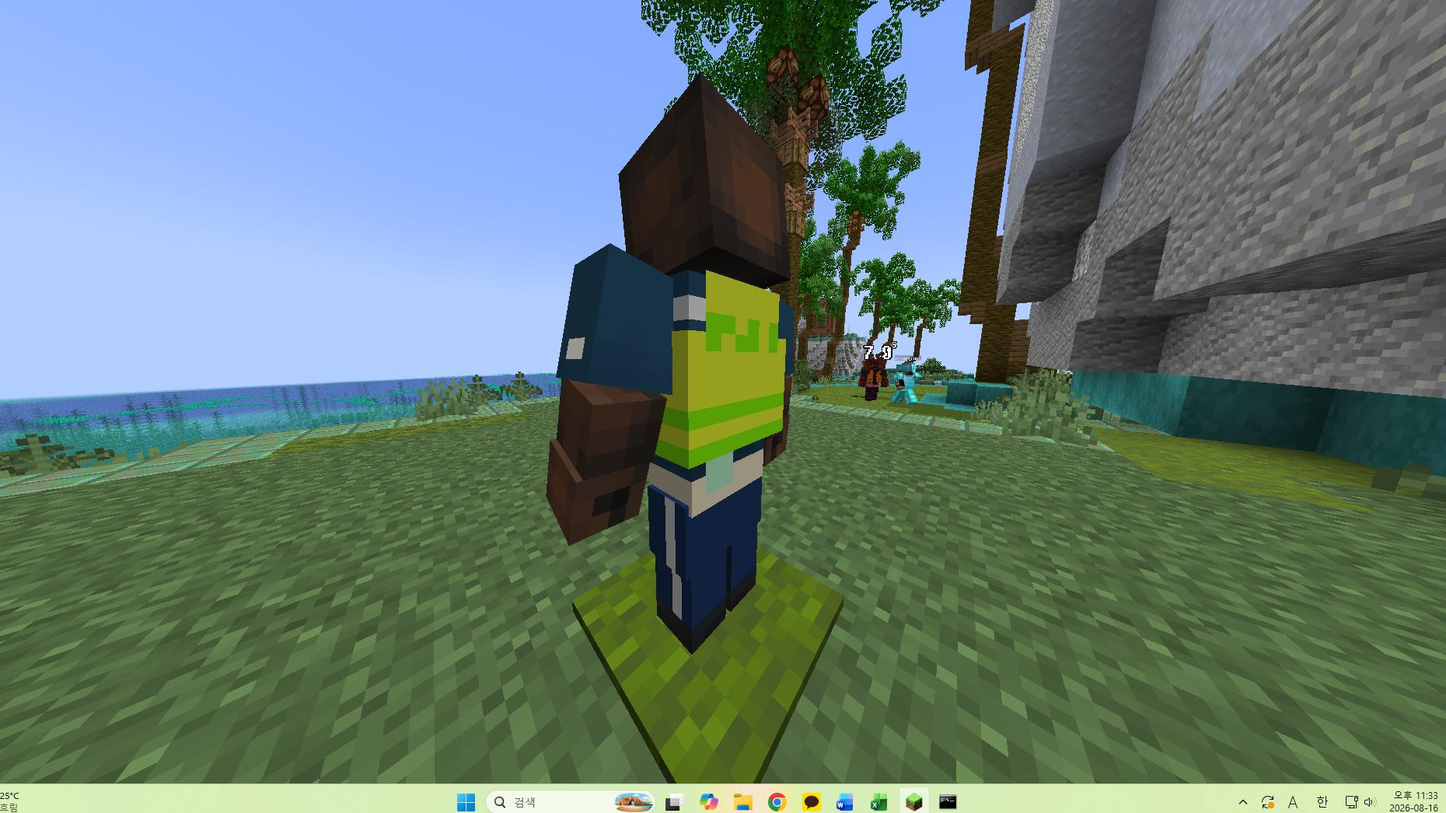Guardian: (547, 103, 794, 651)
